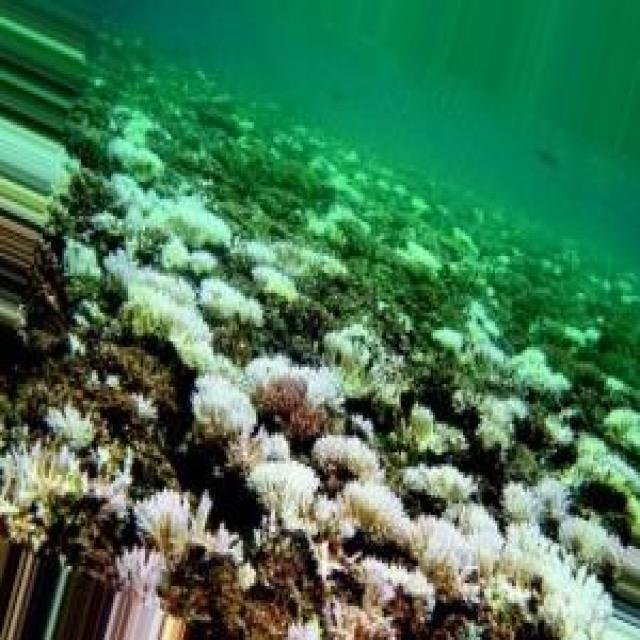bleached coral: (231, 427, 409, 546), (485, 478, 610, 638), (0, 407, 132, 544), (104, 250, 216, 372), (405, 467, 504, 602), (110, 173, 231, 276), (135, 488, 242, 566), (231, 240, 349, 304), (324, 323, 404, 406), (354, 557, 435, 638), (432, 302, 509, 369), (244, 353, 341, 406), (565, 433, 640, 496), (196, 375, 254, 436), (322, 597, 395, 639), (199, 278, 261, 326), (476, 395, 528, 452), (510, 348, 570, 392), (394, 240, 442, 279), (605, 408, 640, 438)
